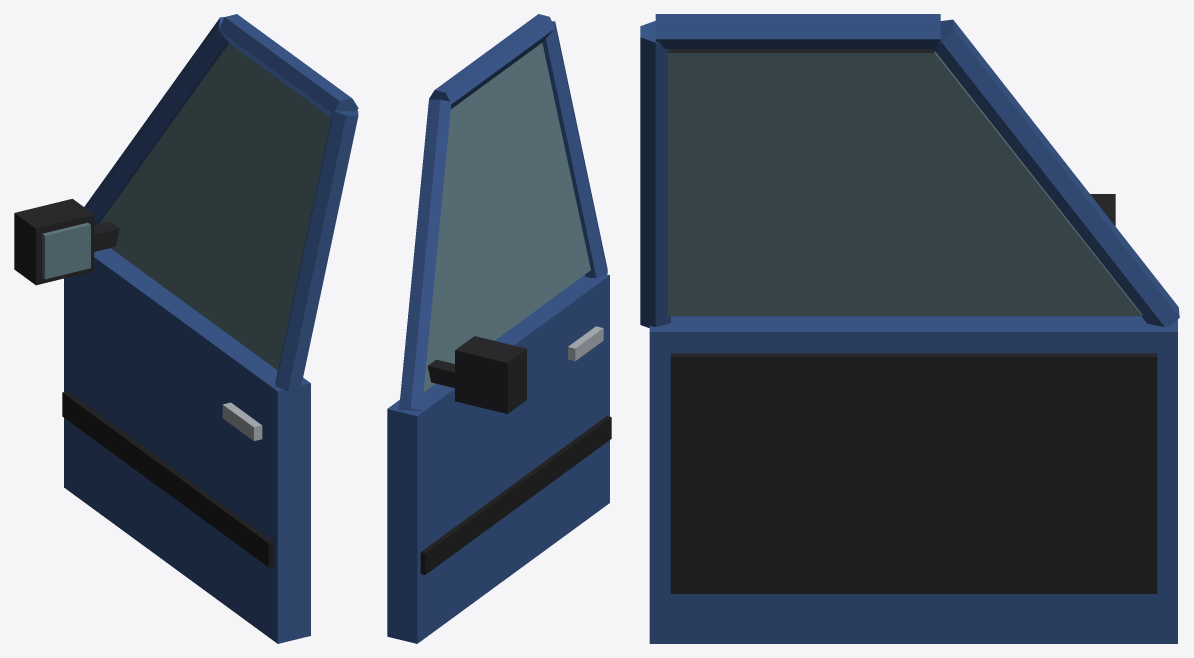
File: car_door_blue.glb
3 renders of one model, left to right at view 1: azimuth 30°, elevation 25°; view 2: azimuth 150°, elevation 25°; view 3: azimuth 270°, elevation 25°, orthographic. The views are drawn at different scales.
Visible parts, largest first — view 1: door_L; view 2: door_L; view 3: door_L.
Part boxes in pixels (left/top/right/bottom): door_L: left=14, top=14, right=358, bottom=643; door_L: left=387, top=14, right=611, bottom=643; door_L: left=640, top=14, right=1179, bottom=643.
Bounding box in the file's own units: 0.38 × 1.21 × 0.9089.
Materials: 2 (2 with a texture image).
